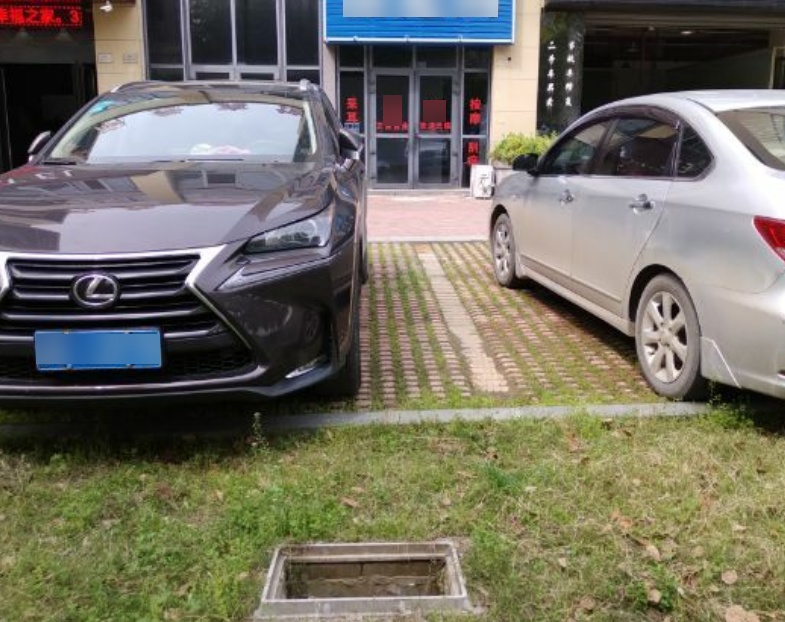well: (258, 538, 472, 606)
